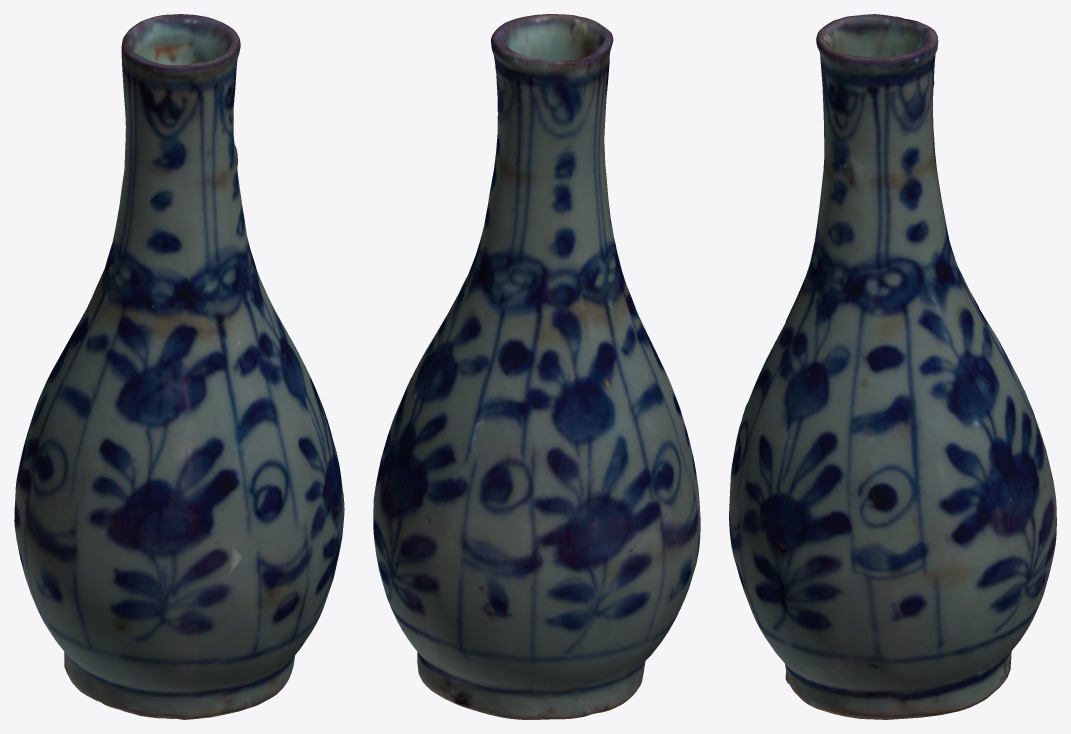
File: florero_llorente.lod2.glb
The picture shows the model from 3 angles, left to right: view 1: azimuth 30°, elevation 25°; view 2: azimuth 150°, elevation 25°; view 3: azimuth 270°, elevation 25°; orthographic projection.
Parts seen in each view (by area): view 1: Object_2; view 2: Object_2; view 3: Object_2.
Part boxes in pixels (x1,y1,x2,y2): Object_2: (14,14,344,719); Object_2: (373,14,700,719); Object_2: (729,14,1056,719).
Size of the model in its own units: 76.06 by 165 by 76.18.
Materials: 1 (1 with a texture image).
